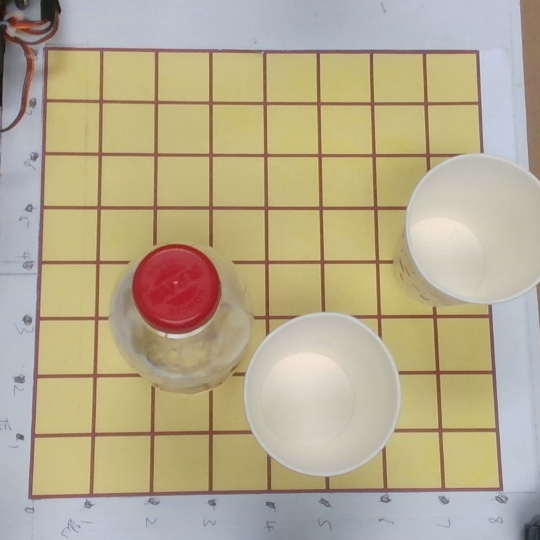bottle: (109, 241, 250, 399)
cup: (244, 313, 403, 481), (376, 152, 540, 307)
